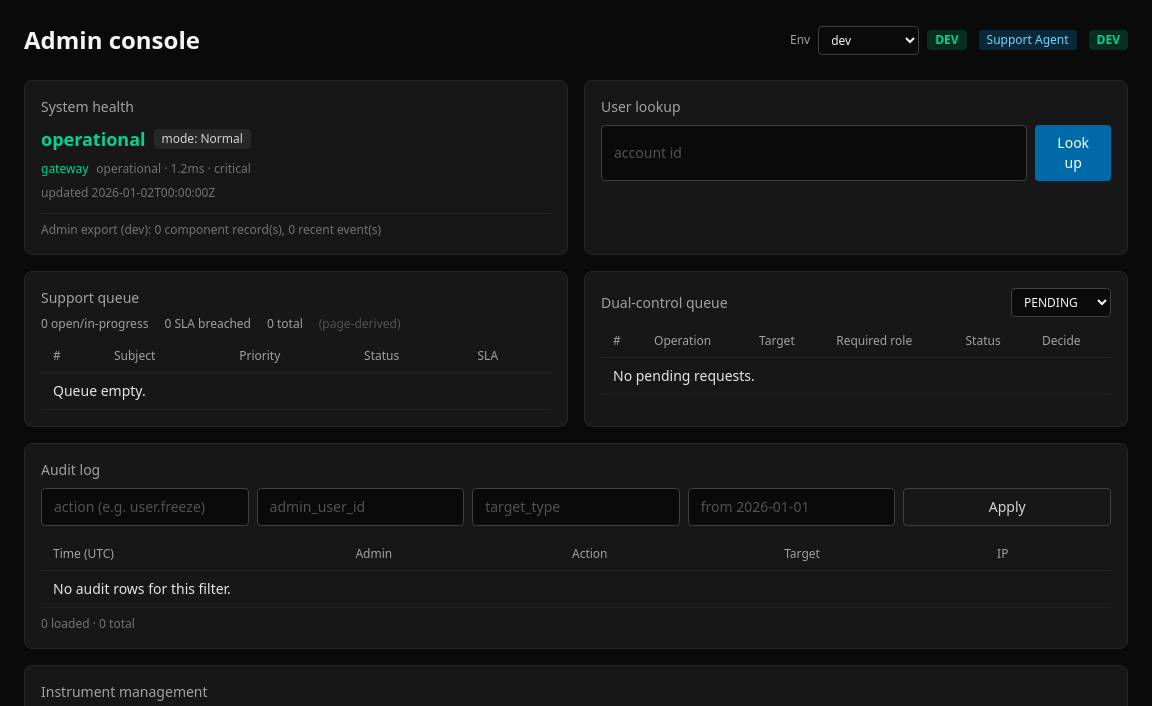
Test: AdminPage (Super Admin) › user lookup surfaces the support dossier
Type "1001" into the field labelled "account id" at (814, 153), box [601,125,1027,181]
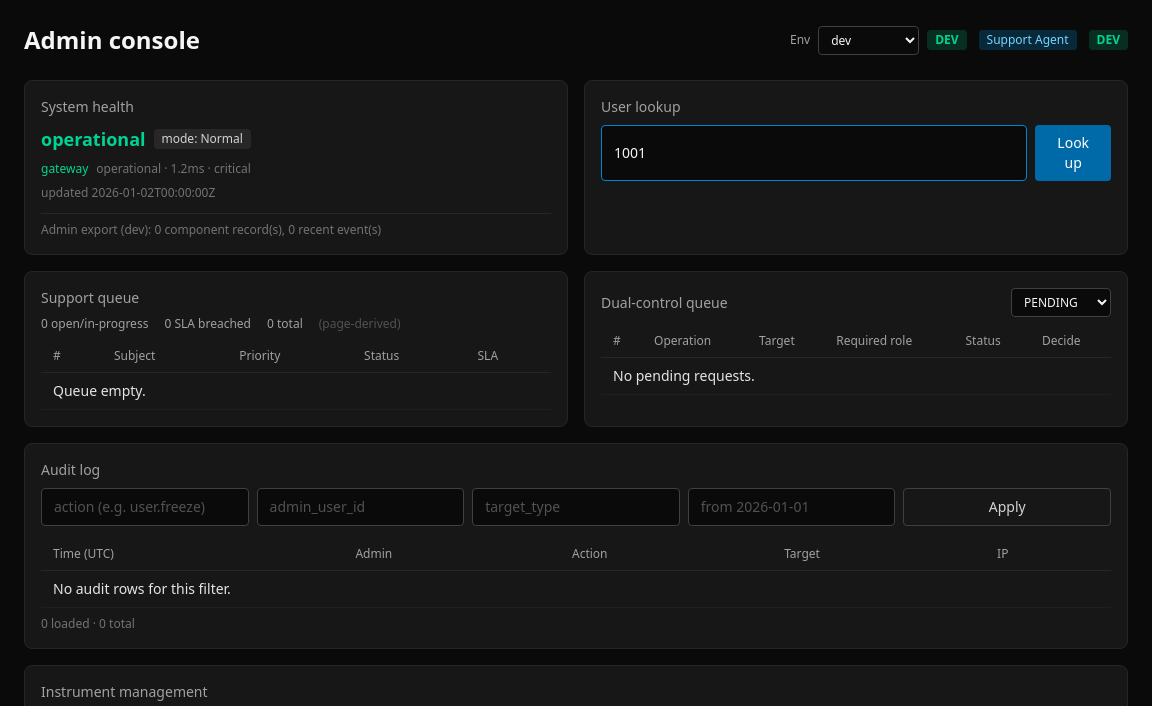
Click the button "Look up" at (1073, 153), box [1035,125,1111,181]
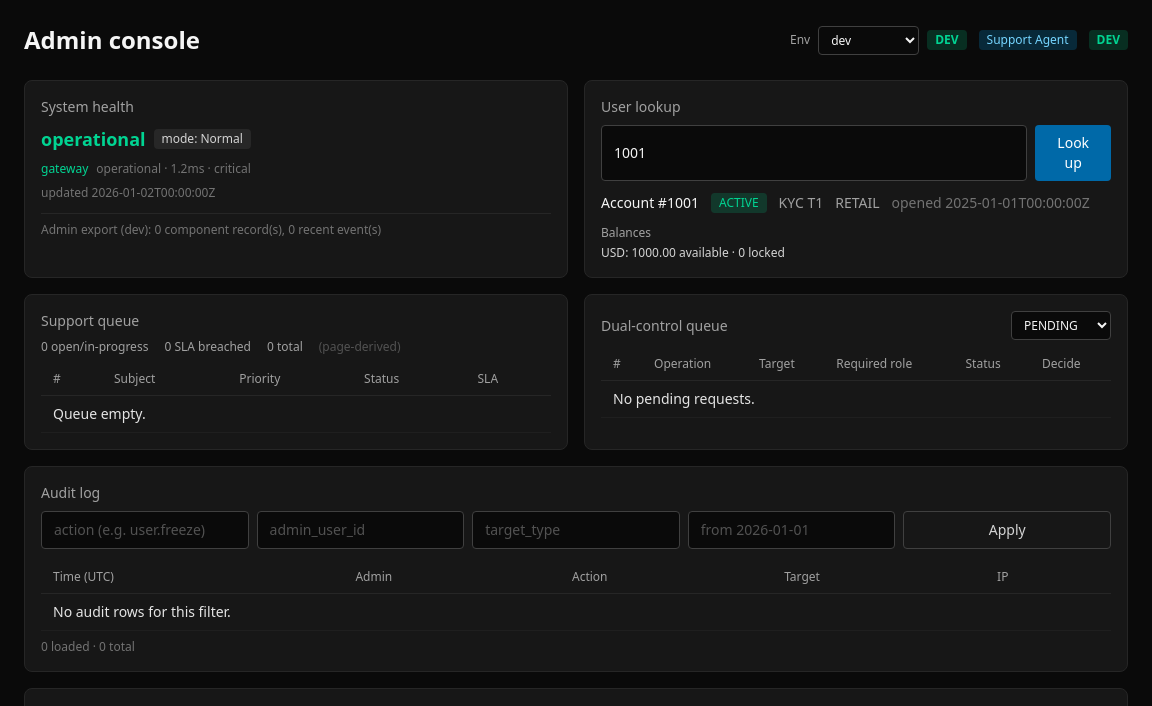
Expected: the element with test id "support-view" is shown, [601,193,1111,261]
Expected: the list item "USD: 1000.00 available · 0 locked" is shown, [601,244,785,261]
